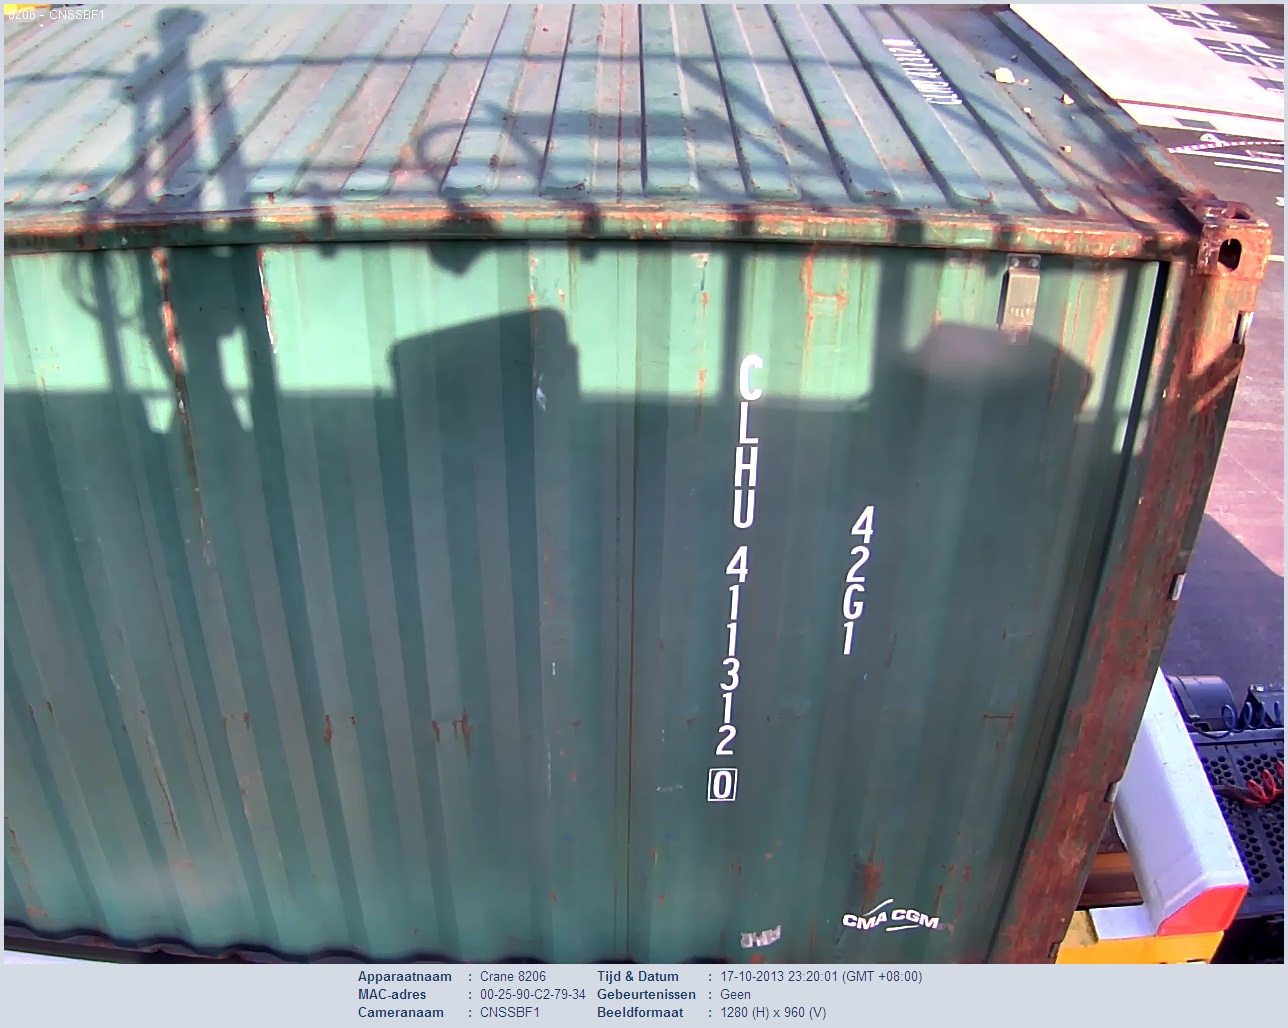container_no_door: (1, 216, 1045, 966)
